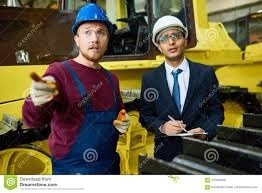helmet: (71, 3, 114, 36), (148, 15, 190, 39)
person with partial safety: (24, 2, 125, 168), (145, 15, 216, 136)
